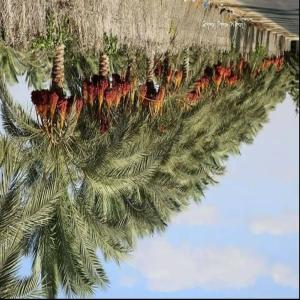palm tree: (0, 17, 299, 299)
